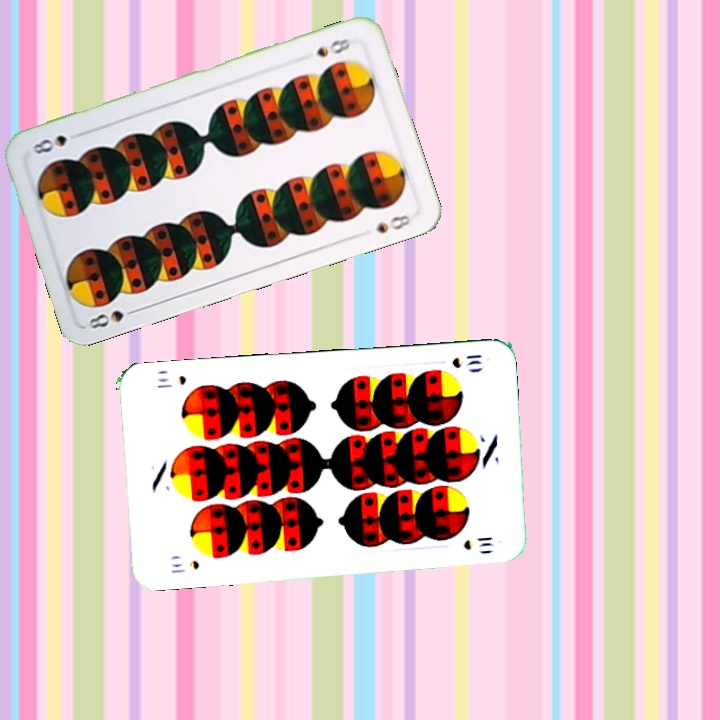S10: (448, 350, 484, 370), (167, 556, 202, 576)
S8: (85, 304, 143, 332), (312, 33, 358, 60)
